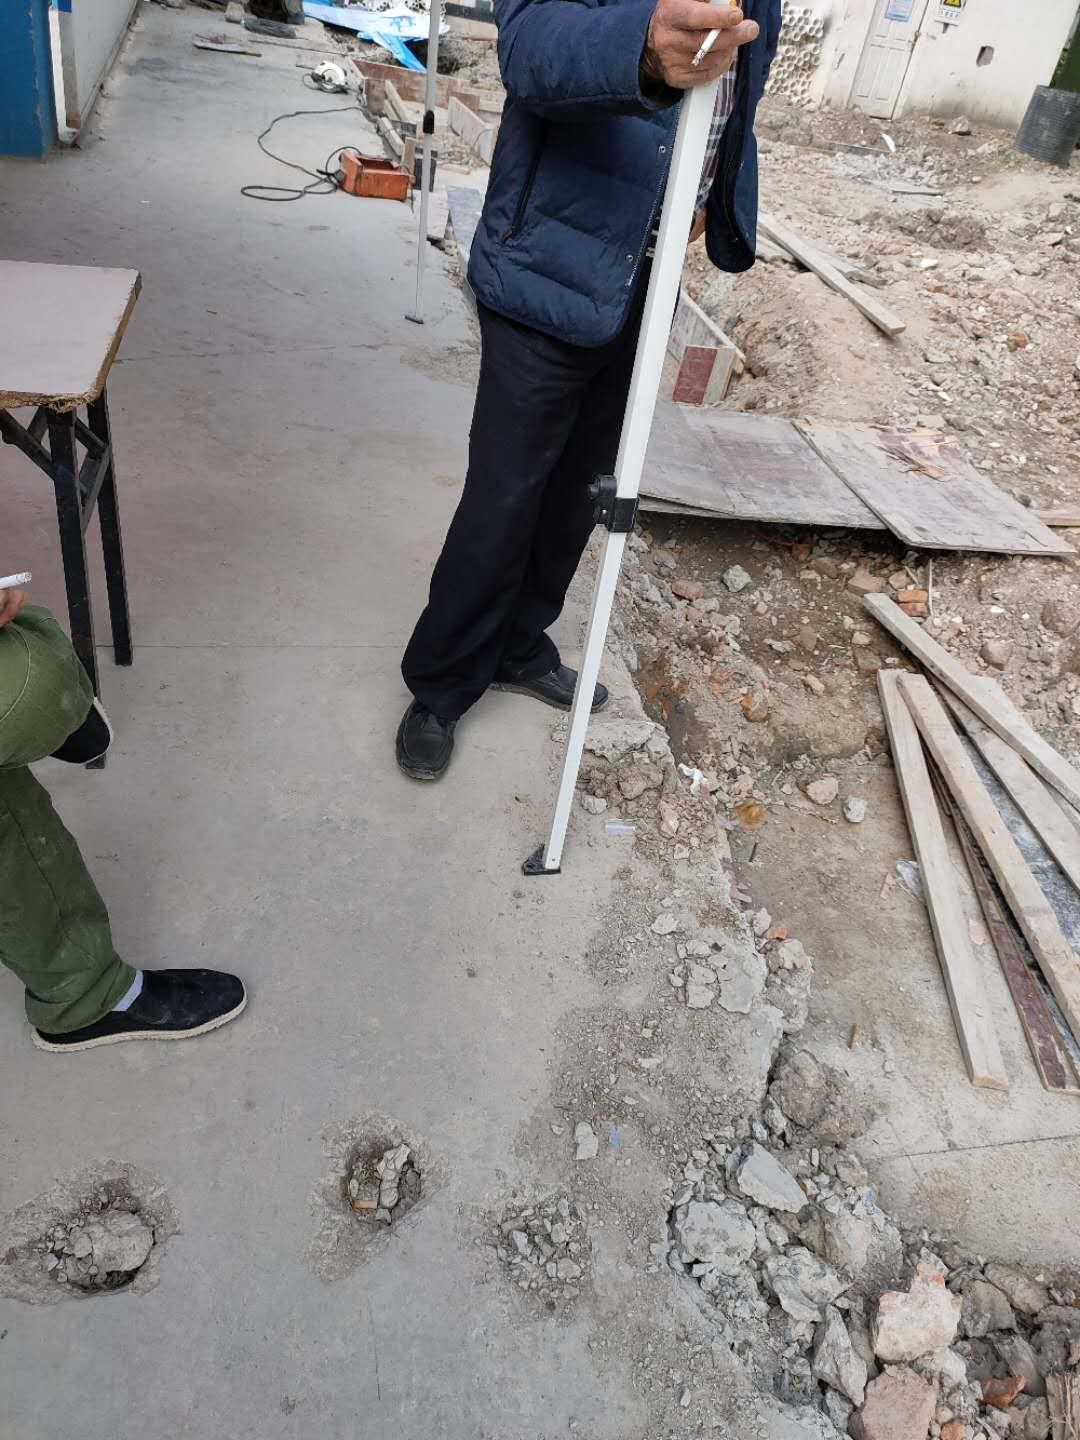Cigarette: (690, 24, 720, 66)
